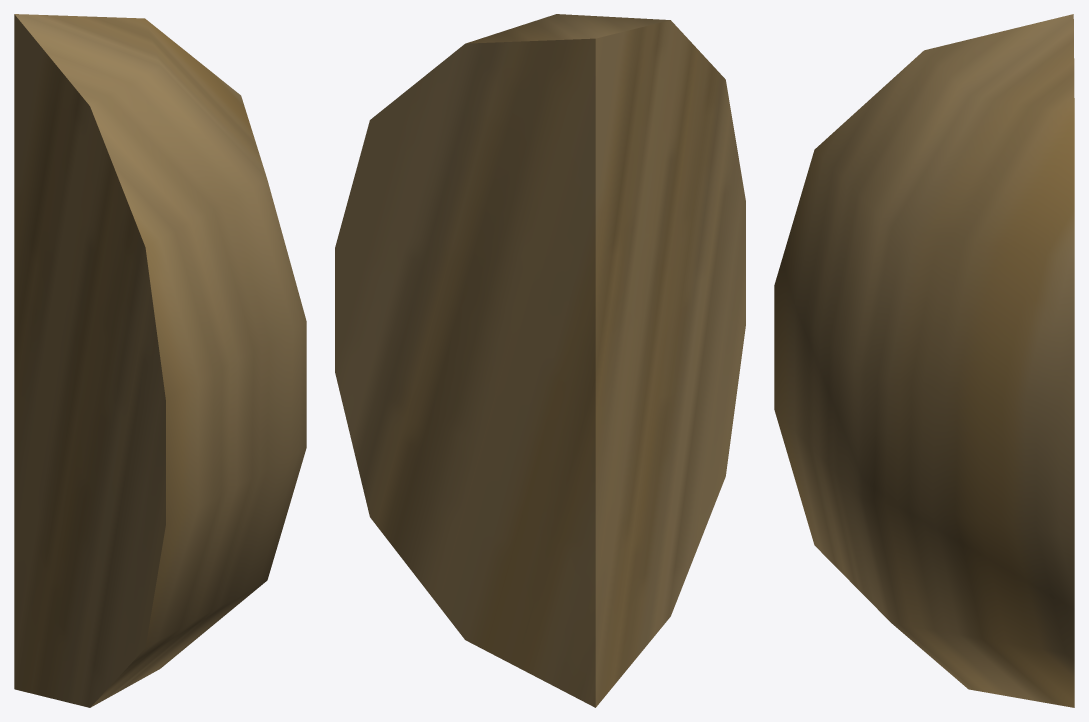
File: Cabinet_Edge_Bevel_CornerOuter.fbx
The picture shows the model from 3 angles, left to right: view 1: azimuth 30°, elevation 25°; view 2: azimuth 150°, elevation 25°; view 3: azimuth 270°, elevation 25°; orthographic projection.
Parts seen in each view (by area): view 1: Cabinet_Edge_Bevel_CornerOuter; view 2: Cabinet_Edge_Bevel_CornerOuter; view 3: Cabinet_Edge_Bevel_CornerOuter.
Boxes of the visible parts, box(x1,y1,x2,y2) form: Cabinet_Edge_Bevel_CornerOuter: box(14, 14, 306, 707); Cabinet_Edge_Bevel_CornerOuter: box(335, 14, 745, 707); Cabinet_Edge_Bevel_CornerOuter: box(774, 14, 1074, 707).
Bounding box in the file's own units: 1.22 × 3.01 × 1.23.
